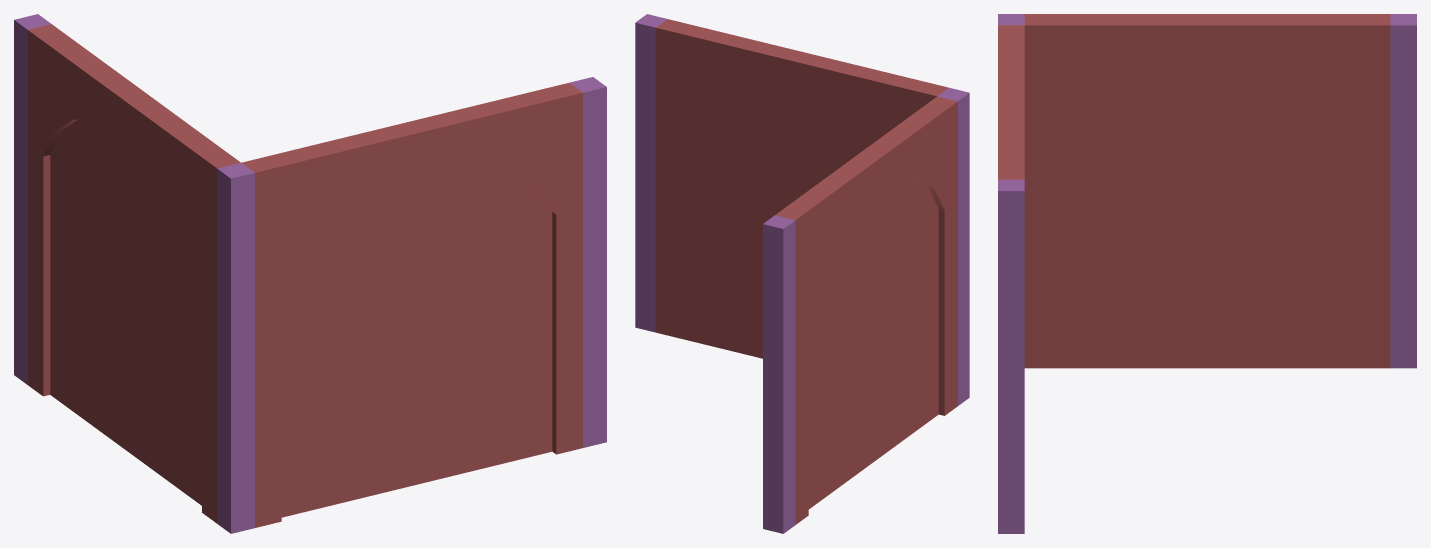
The model's file is celling_corner_02.fbx.
3 views of the same model, side by side, from view 1: azimuth 30°, elevation 25°; view 2: azimuth 150°, elevation 25°; view 3: azimuth 270°, elevation 25° (orthographic). The views are drawn at different scales.
Visible parts, largest first — view 1: celling_corner_polySurface10; view 2: celling_corner_polySurface10; view 3: celling_corner_polySurface10.
Boxes of the visible parts, x1,y1,x2,y2 form: celling_corner_polySurface10: [14, 14, 606, 533]; celling_corner_polySurface10: [635, 14, 969, 533]; celling_corner_polySurface10: [998, 14, 1416, 533].
Bounding box in the file's own units: 1 × 0.9033 × 1.
